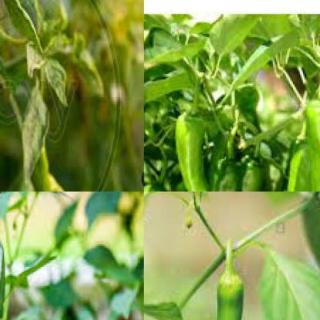green_chilli: (171, 113, 212, 191), (205, 268, 253, 319), (28, 149, 84, 191), (282, 142, 314, 190), (306, 94, 320, 190), (233, 162, 266, 190), (208, 164, 242, 190)
